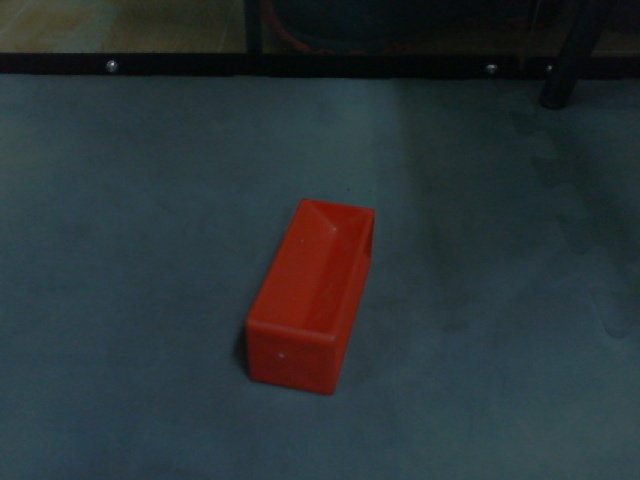RedSample: (241, 194, 377, 400)
